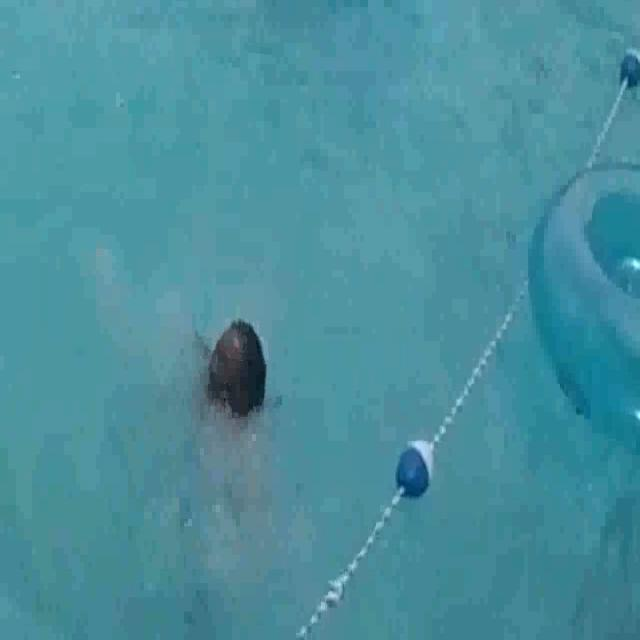drowning: (157, 291, 303, 579)
